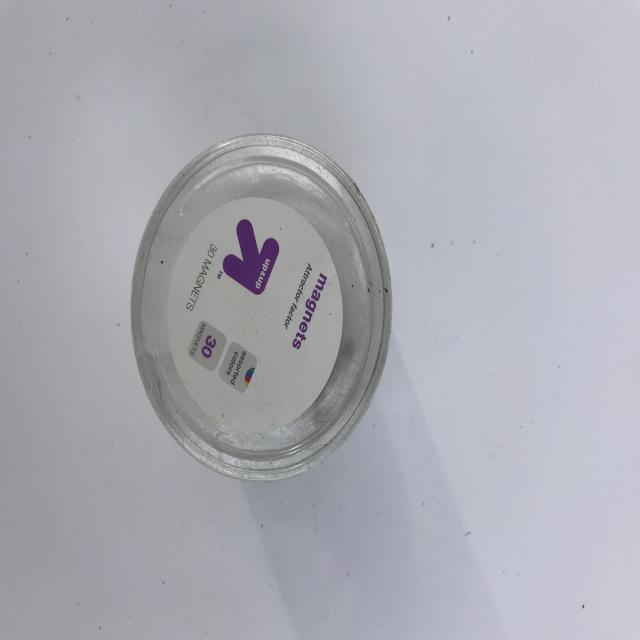plastic: (130, 132, 393, 482)
